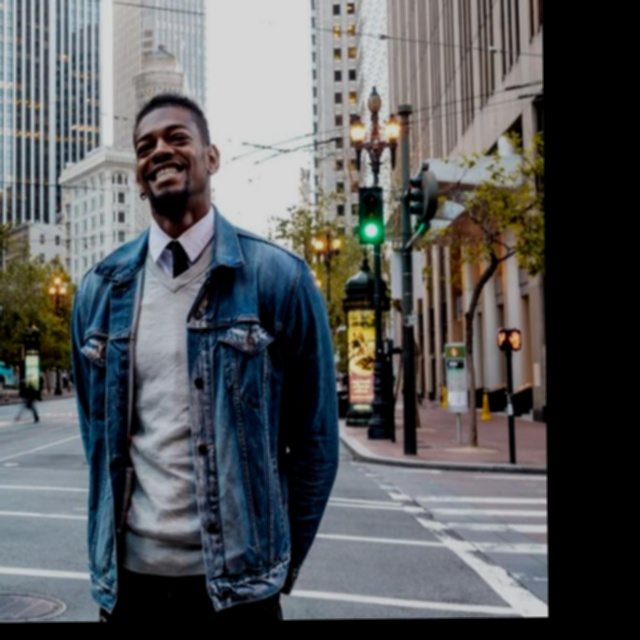Sin_Casco_Mascarrilla: (132, 90, 219, 215)
Sin_Chaleco: (69, 221, 311, 562)
